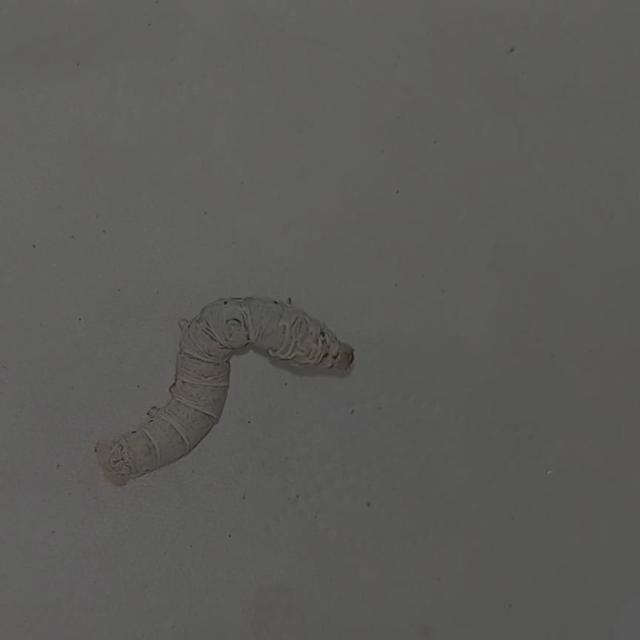Healthy: (92, 284, 366, 493)
